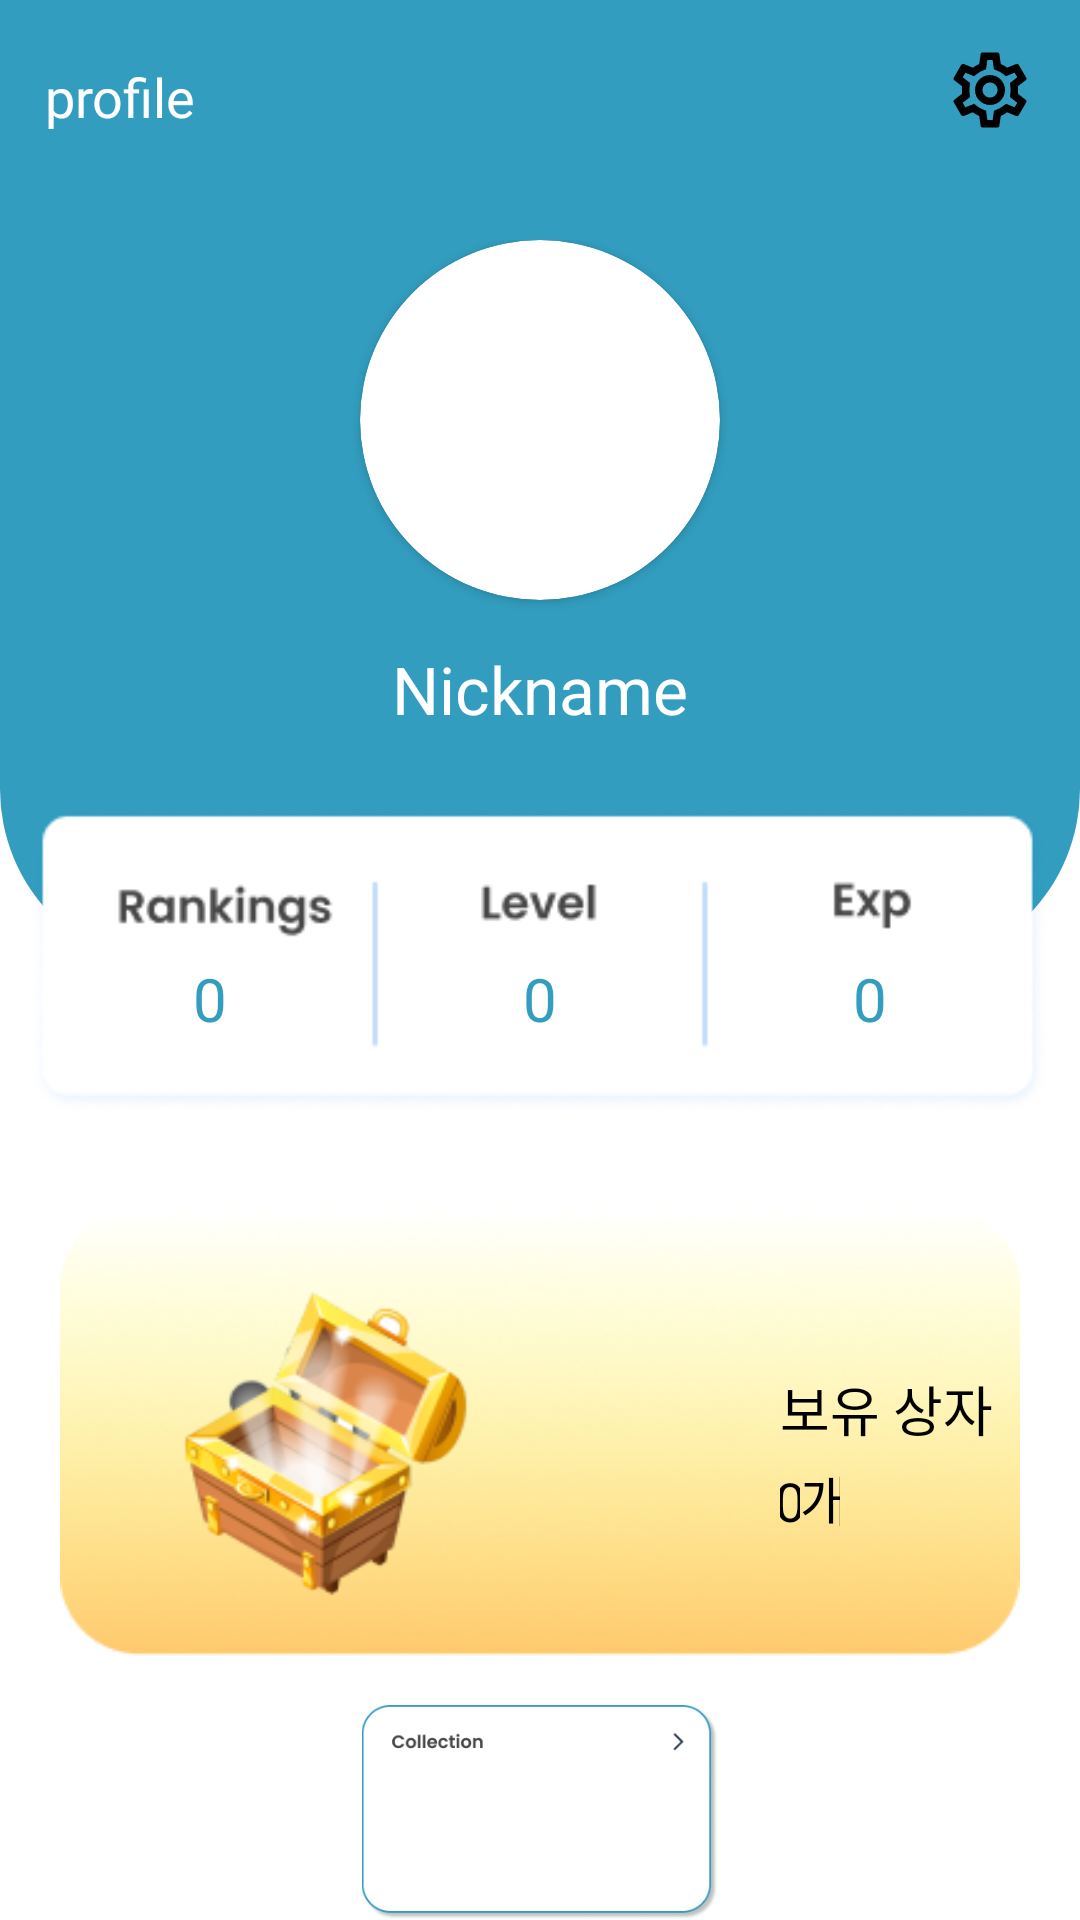

Icons on this 1080w x 1920h Android screen, each with the point to tap as (x=x, y=y):
settings: (x=990, y=90)
